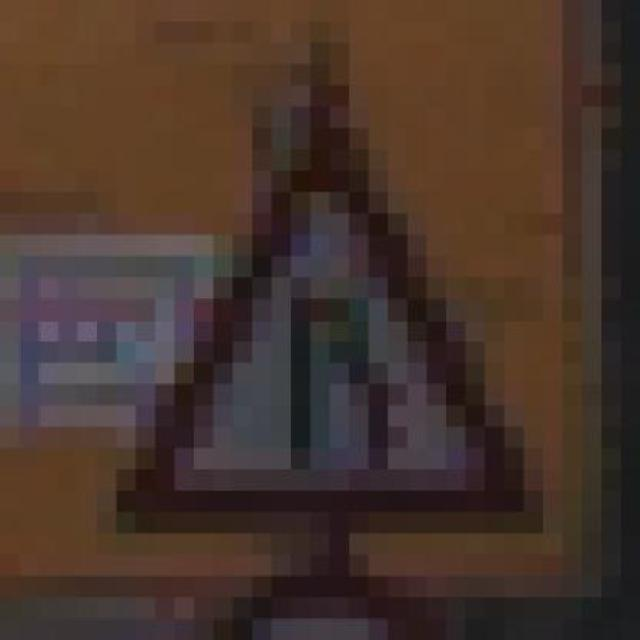-Road narrows on right: (77, 64, 543, 533)
